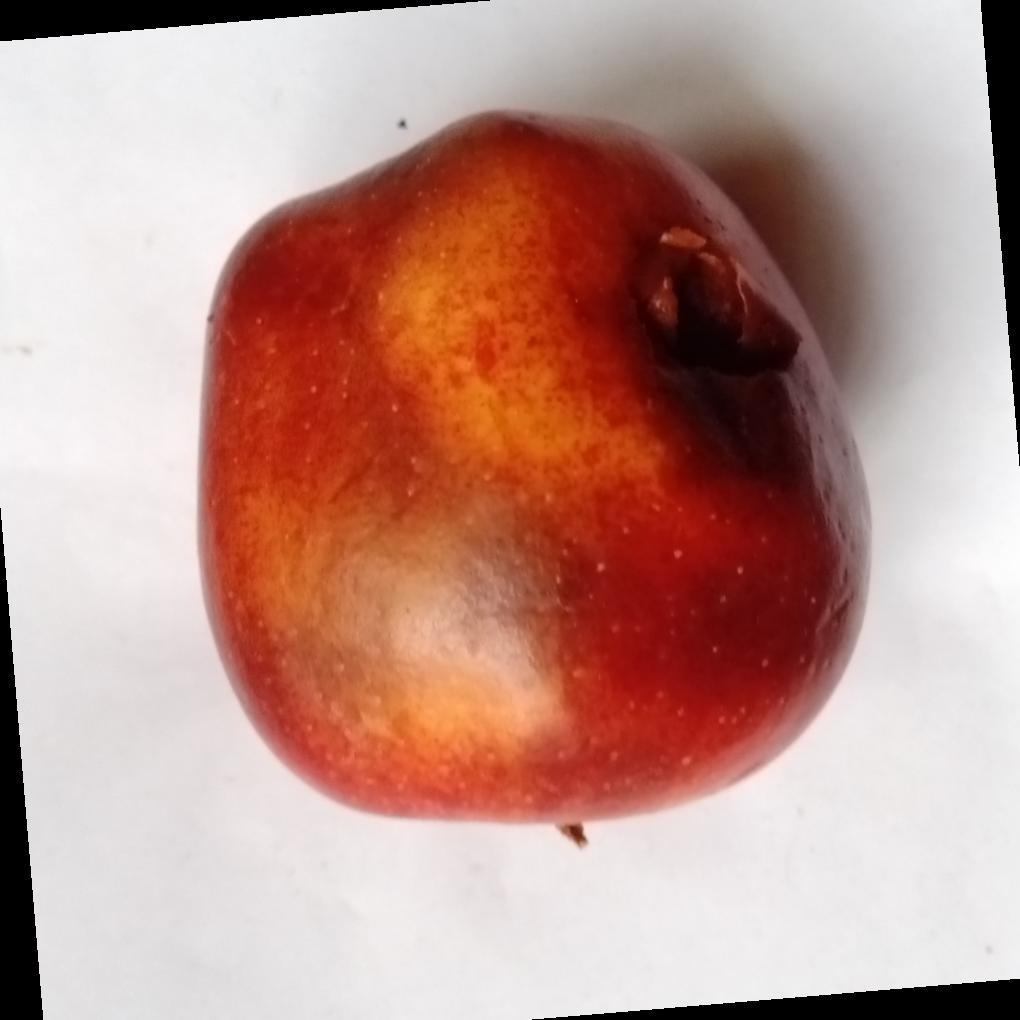FreshOrange: (195, 110, 874, 837)
